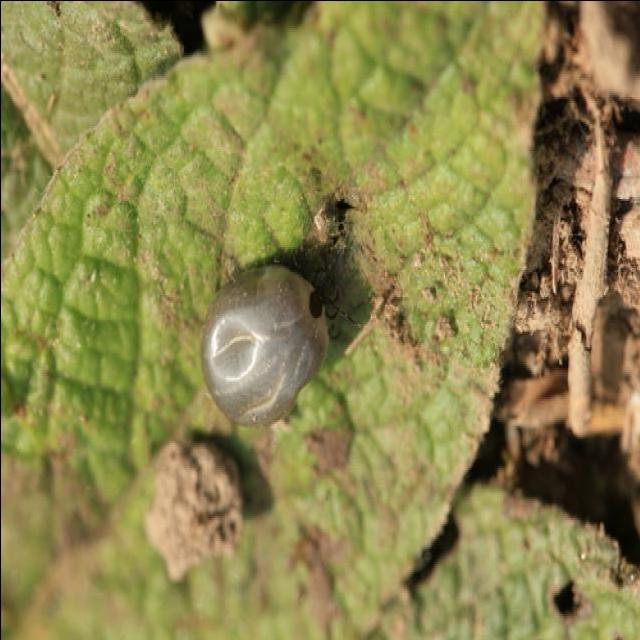Ixodes Ricinus-F-Fed: (198, 261, 351, 427)
